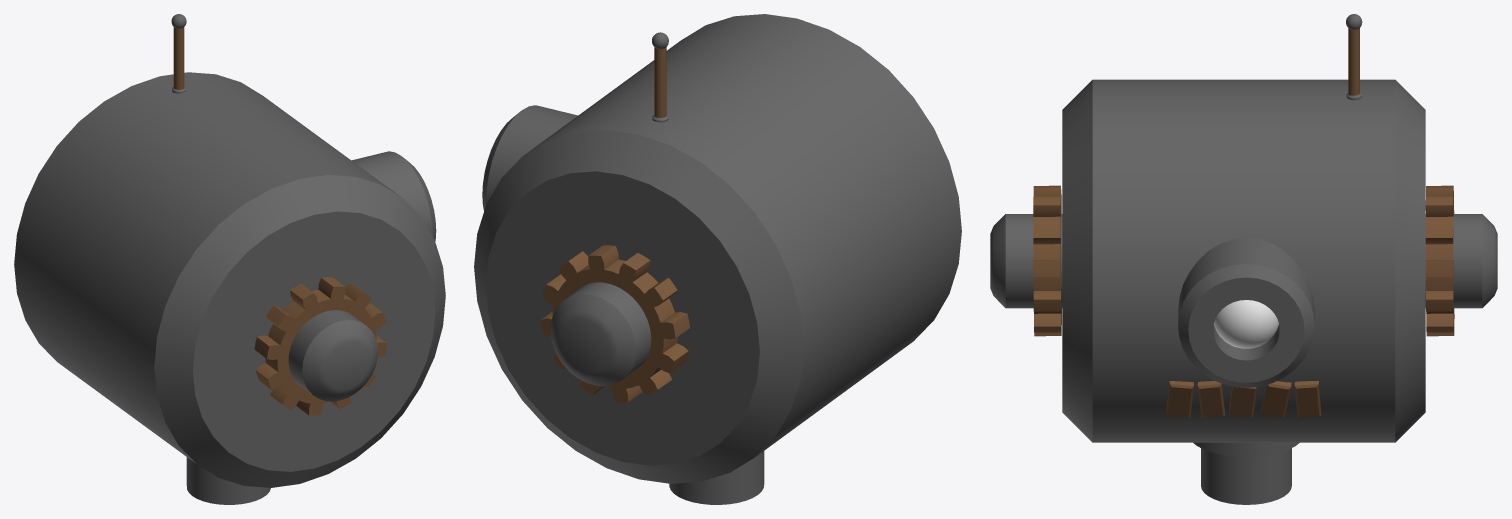
The model's file is Cabeca.fbx.
3 views of the same model, side by side, from view 1: azimuth 30°, elevation 25°; view 2: azimuth 150°, elevation 25°; view 3: azimuth 270°, elevation 25° (orthographic). The views are drawn at different scales.
Visible parts, largest first — view 1: Cabeca_1; view 2: Cabeca_1; view 3: Cabeca_1.
Boxes of the visible parts, box(x1,y1,x2,y2) form: Cabeca_1: box(14, 14, 445, 504); Cabeca_1: box(474, 14, 961, 504); Cabeca_1: box(990, 14, 1497, 504).
Size of the model in its own units: 310 by 396 by 386.
